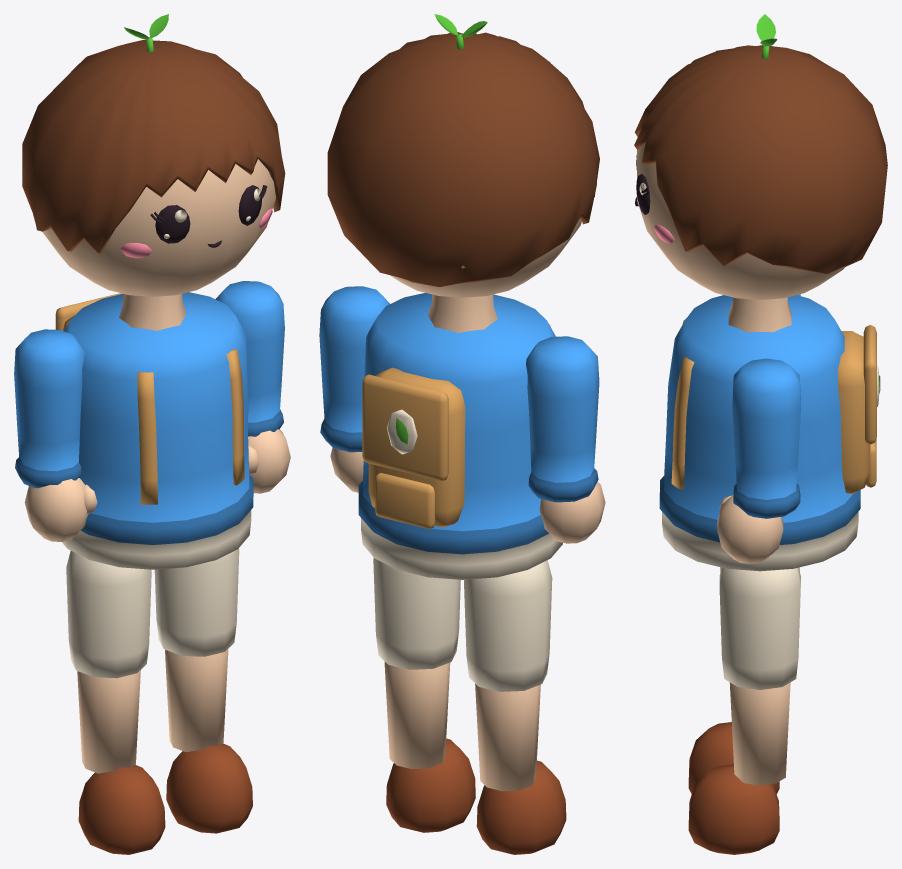
File: hero-tall.glb
3 renders of one model, left to right at view 1: azimuth 30°, elevation 25°; view 2: azimuth 150°, elevation 25°; view 3: azimuth 270°, elevation 25°, orthographic. The views are drawn at different scales.
Parts seen in each view (by area): view 1: head, body, leg-left, leg-right, arm-left, arm-right; view 2: head, body, leg-left, leg-right, arm-left, arm-right, head-leaf; view 3: head, body, leg-right, arm-right, leg-left, head-leaf.
Part boxes in pixels (bbox=[...]): head: bbox=[22, 40, 285, 330]; body: bbox=[55, 292, 253, 569]; leg-left: bbox=[66, 551, 165, 854]; leg-right: bbox=[154, 548, 252, 833]; arm-left: bbox=[14, 329, 97, 541]; arm-right: bbox=[215, 281, 290, 493]; head: bbox=[327, 32, 599, 332]; body: bbox=[358, 293, 562, 579]; leg-left: bbox=[464, 560, 566, 854]; leg-right: bbox=[373, 557, 475, 832]; arm-left: bbox=[526, 336, 605, 543]; arm-right: bbox=[319, 286, 389, 492]; head-leaf: bbox=[434, 14, 487, 49]; head: bbox=[634, 45, 887, 332]; body: bbox=[659, 295, 880, 571]; leg-right: bbox=[688, 567, 800, 854]; arm-right: bbox=[717, 358, 800, 563]; leg-left: bbox=[688, 567, 799, 794]; head-leaf: bbox=[756, 14, 776, 58].
Size of the model in its own units: 0.9254 by 2.71 by 0.782.
